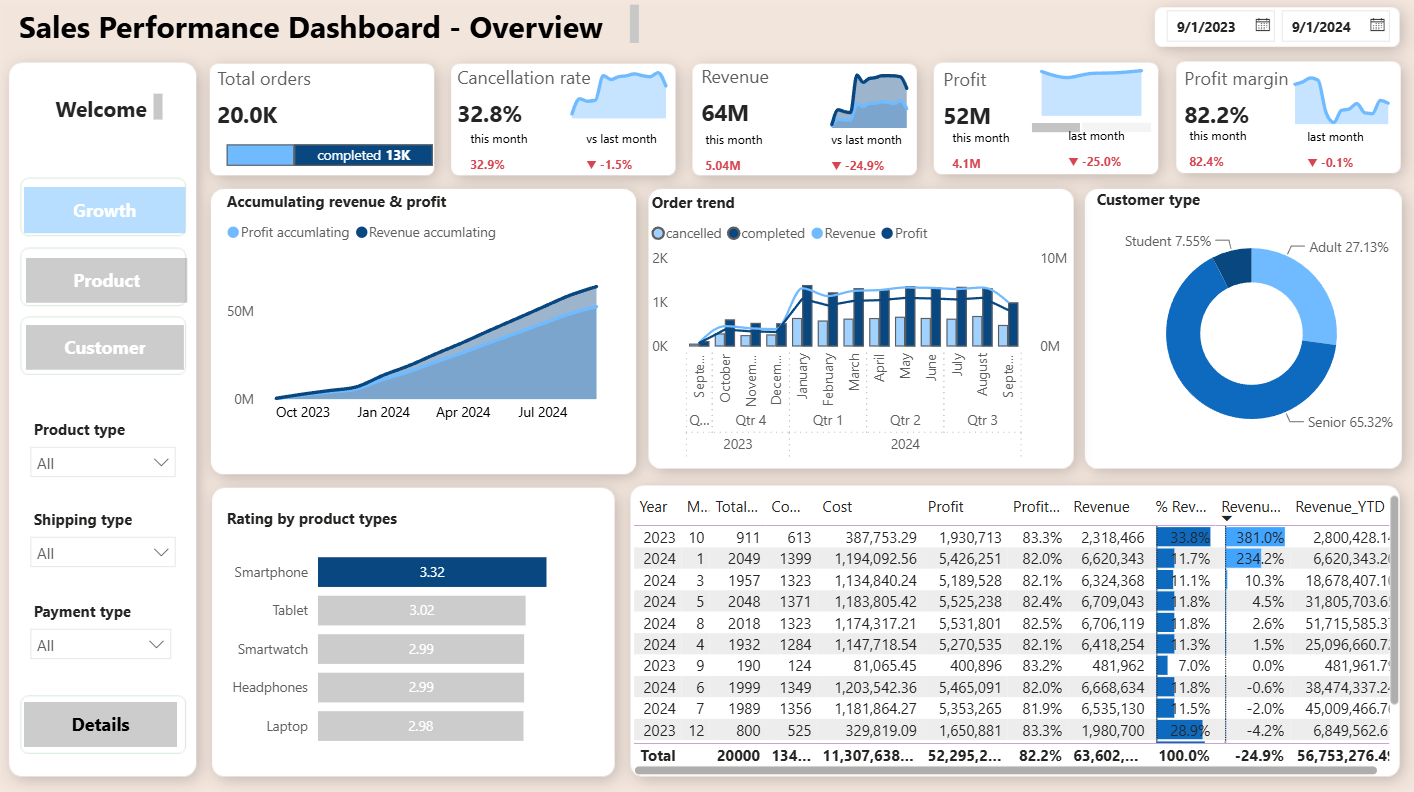

Layout of this report page (visuals, bound fields, positions):
{"tool":"powerbi","page":{"name":"Growth","canvas":[1280,720],"ordinal":0},"visuals":[{"type":"cardVisual","fields":{"Data":["CountNonNull(fact_order.order id)"]},"box":[189.8,47,157.8,98.4],"z":0},{"type":"cardVisual","fields":{"Data":["*Measure.M_icon_r_mom"]},"box":[734.2,110.6,140.3,68],"z":1000},{"type":"cardVisual","fields":{"Data":["*Measure.M_Cancellation rate"]},"box":[402.5,45.4,160.2,99.2],"z":2000},{"type":"textbox","box":[52.4,87.9,110.6,34],"z":3000},{"type":"cardVisual","fields":{"Data":["*Measure.M_profit"]},"box":[833.4,46.8,181.4,99.2],"z":4000},{"type":"lineClusteredColumnComboChart","title":"Order trend","fields":{"Category":["calendar.Start of Month.Variation.Date Hierarchy.Year","calendar.Start of Month.Variation.Date Hierarchy.Quarter","calendar.Start of Month.Variation.Date Hierarchy.Month","calendar.Start of Month.Variation.Date Hierarchy.Day"],"Series":["fact_order.status"],"Y":["CountNonNull(fact_order.order id)"],"Y2":["*Measure.M_revenue","*Measure.M_profit"]},"box":[586.6,179.8,378.5,246],"z":5000},{"type":"areaChart","title":"Accumulating revenue & profit","fields":{"Category":["calendar.Start of Month.Variation.Date Hierarchy.Year","calendar.Start of Month.Variation.Date Hierarchy.Quarter","calendar.Start of Month.Variation.Date Hierarchy.Month","calendar.Start of Month.Variation.Date Hierarchy.Day"],"Y":["*Measure.M_Profit_accumlating","*Measure.M_revenue_accumlating"]},"box":[210.1,179.1,360,214.6],"z":6000},{"type":"textbox","box":[25.5,8.5,559.8,45.4],"z":7000},{"type":"tableEx","fields":{"Values":["calendar.Year","calendar.Month","CountNonNull(fact_order.customer id)","*Measure.M_completed oders","*Measure.M_cost","*Measure.M_profit","*Measure.M_profit margin","*Measure.M_revenue","*Measure.M_Revenue Contribution_%","*Measure.M_revnue _ MoM","*Measure.M_revenue_YTD"]},"box":[570.1,443.3,689.9,258.9],"z":8000},{"type":"slicer","fields":{"Values":["calendar.Start of Month"]},"box":[1036.1,8.5,221.1,49.6],"z":9000},{"type":"actionButton","box":[35.4,175.7,143.1,41.1],"z":10000},{"type":"cardVisual","fields":{"Data":["*Measure.M_profit margin"]},"box":[1047.4,47.1,181.2,98.5],"z":11000},{"type":"slicer","fields":{"Values":["dim_product.product type"]},"box":[31.2,377,148.8,79.4],"z":12000},{"type":"slicer","fields":{"Values":["dim_shipping.shipping type"]},"box":[31,456.7,148.8,62.4],"z":13000},{"type":"areaChart","title":"Order trend","fields":{"Category":["calendar.Start of Month.Variation.Date Hierarchy.Year","calendar.Start of Month.Variation.Date Hierarchy.Quarter","calendar.Start of Month.Variation.Date Hierarchy.Month","calendar.Start of Month.Variation.Date Hierarchy.Day"],"Y":["*Measure.M_cancelled orders"]},"box":[506,53.9,113.4,66.6],"z":14000},{"type":"actionButton","box":[36.9,238.1,143.1,39.7],"z":15000},{"type":"actionButton","box":[36.9,297.6,140.3,39.7],"z":16000},{"type":"areaChart","title":"Order trend","fields":{"Category":["calendar.Start of Month"],"Y":["*Measure.M_profit margin"]},"box":[1147.3,64.2,112.7,61.4],"z":17000},{"type":"barChart","title":"Order status","fields":{"Series":["fact_order.status"],"Y":["*Measure.M_order"]},"box":[209.8,99.2,192.8,89.3],"z":18000},{"type":"areaChart","title":"Order trend","fields":{"Category":["calendar.Start of Month"],"Series":["fact_order.status"],"Y2":["*Measure.M_revenue"]},"box":[737,46.8,96.4,82.2],"z":19000},{"type":"areaChart","title":"Order trend","fields":{"Category":["calendar.Start of Month.Variation.Date Hierarchy.Year","calendar.Start of Month.Variation.Date Hierarchy.Quarter","calendar.Start of Month.Variation.Date Hierarchy.Month","calendar.Start of Month.Variation.Date Hierarchy.Day"],"Y":["*Measure.M_profit"]},"box":[924.1,55.3,116.2,76.5],"z":20000},{"type":"cardVisual","fields":{"Data":["*Measure.M_revenue"]},"box":[619.3,45.7,192.6,98.5],"z":21000},{"type":"cardVisual","fields":{"Data":["*Measure.M_revenue_this_month"]},"box":[622.2,110.6,140.3,68],"z":22000},{"type":"cardVisual","fields":{"Data":["*Measure.M_cancellation_this_month"]},"box":[413.9,110.6,103.5,65.2],"z":23000},{"type":"cardVisual","fields":{"Data":["*Measure.M_cancellation_MoM_card"]},"box":[517.3,112,104.9,63.8],"z":24000},{"type":"cardVisual","fields":{"Data":["*Measure.M_profit_this_month"]},"box":[841.9,109.1,140.3,68],"z":25000},{"type":"cardVisual","fields":{"Data":["*Measure.M_profit_MoM_card"]},"box":[943.9,107.7,140.3,68],"z":26000},{"type":"cardVisual","fields":{"Data":["*Measure.M_profit_margin_this_month"]},"box":[1051.7,107,104.2,68.5],"z":27000},{"type":"cardVisual","fields":{"Data":["*Measure.M_profit_margin_MoM_card"]},"box":[1155.9,108.5,97,68.5],"z":28000},{"type":"clusteredBarChart","title":"Rating by product types","fields":{"Category":["dim_product.product type"],"Y":["Avg(fact_order.rating)"]},"box":[210.1,460.2,335.2,226.1],"z":29000},{"type":"actionButton","box":[28.3,632.1,144.6,39.7],"z":30000},{"type":"donutChart","title":"Customer type","fields":{"Series":["dim_customer.Customer type by age"],"Y":["Count(fact_order.customer id)"]},"box":[981.6,177.3,284.6,239.4],"z":31000},{"type":"slicer","fields":{"Values":["dim_payment.payment type"]},"box":[31.2,538.6,144.6,59.5],"z":32000}]}

Visuals, with their boxes in screenshot pixels (x1, y1, x2, y2), scaled from the page's 1280x720 canvas onto the 1414x792 screenshot:
cardVisual - CountNonNull(fact_order.order id): (left=210, top=52, right=384, bottom=160)
cardVisual - *Measure.M_icon_r_mom: (left=811, top=122, right=966, bottom=196)
cardVisual - *Measure.M_Cancellation rate: (left=445, top=50, right=622, bottom=159)
textbox: (left=58, top=97, right=180, bottom=134)
cardVisual - *Measure.M_profit: (left=921, top=51, right=1121, bottom=161)
"Order trend" lineClusteredColumnComboChart: (left=648, top=198, right=1066, bottom=468)
"Accumulating revenue & profit" areaChart: (left=232, top=197, right=630, bottom=433)
textbox: (left=28, top=9, right=647, bottom=59)
tableEx - calendar.Year x calendar.Month: (left=630, top=488, right=1392, bottom=772)
slicer - calendar.Start of Month: (left=1145, top=9, right=1389, bottom=64)
actionButton: (left=39, top=193, right=197, bottom=238)
cardVisual - *Measure.M_profit margin: (left=1157, top=52, right=1357, bottom=160)
slicer - dim_product.product type: (left=34, top=415, right=199, bottom=502)
slicer - dim_shipping.shipping type: (left=34, top=502, right=199, bottom=571)
"Order trend" areaChart: (left=559, top=59, right=684, bottom=133)
actionButton: (left=41, top=262, right=199, bottom=306)
actionButton: (left=41, top=327, right=196, bottom=371)
"Order trend" areaChart: (left=1267, top=71, right=1392, bottom=138)
"Order status" barChart: (left=232, top=109, right=445, bottom=207)
"Order trend" areaChart: (left=814, top=51, right=921, bottom=142)
"Order trend" areaChart: (left=1021, top=61, right=1149, bottom=145)
cardVisual - *Measure.M_revenue: (left=684, top=50, right=897, bottom=159)
cardVisual - *Measure.M_revenue_this_month: (left=687, top=122, right=842, bottom=196)
cardVisual - *Measure.M_cancellation_this_month: (left=457, top=122, right=572, bottom=193)
cardVisual - *Measure.M_cancellation_MoM_card: (left=571, top=123, right=687, bottom=193)
cardVisual - *Measure.M_profit_this_month: (left=930, top=120, right=1085, bottom=195)
cardVisual - *Measure.M_profit_MoM_card: (left=1043, top=118, right=1198, bottom=193)
cardVisual - *Measure.M_profit_margin_this_month: (left=1162, top=118, right=1277, bottom=193)
cardVisual - *Measure.M_profit_margin_MoM_card: (left=1277, top=119, right=1384, bottom=195)
"Rating by product types" clusteredBarChart: (left=232, top=506, right=602, bottom=755)
actionButton: (left=31, top=695, right=191, bottom=739)
"Customer type" donutChart: (left=1084, top=195, right=1399, bottom=458)
slicer - dim_payment.payment type: (left=34, top=592, right=194, bottom=658)
